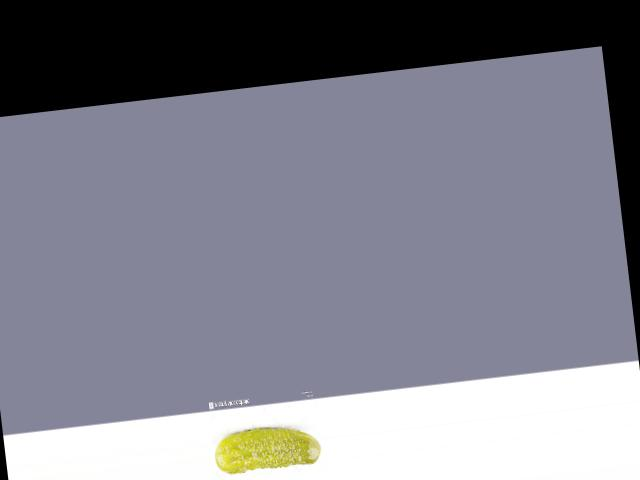cucumber: (212, 420, 323, 475)
